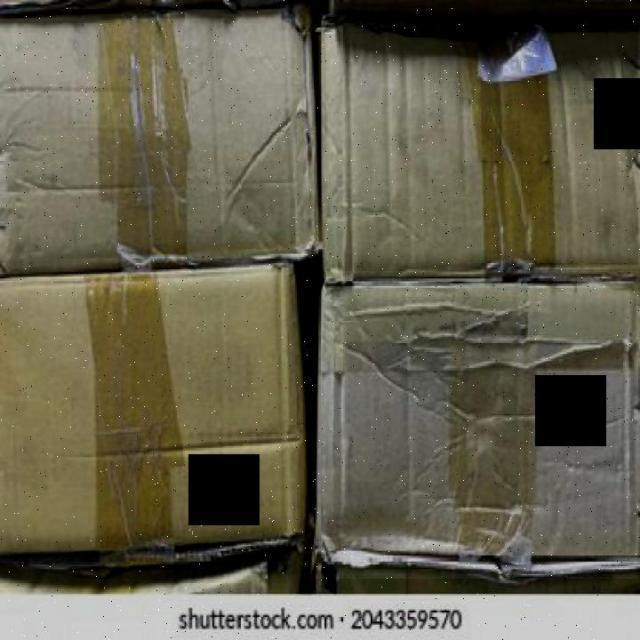box: (316, 286, 638, 579), (0, 281, 309, 562), (324, 17, 638, 271), (0, 18, 312, 262)
